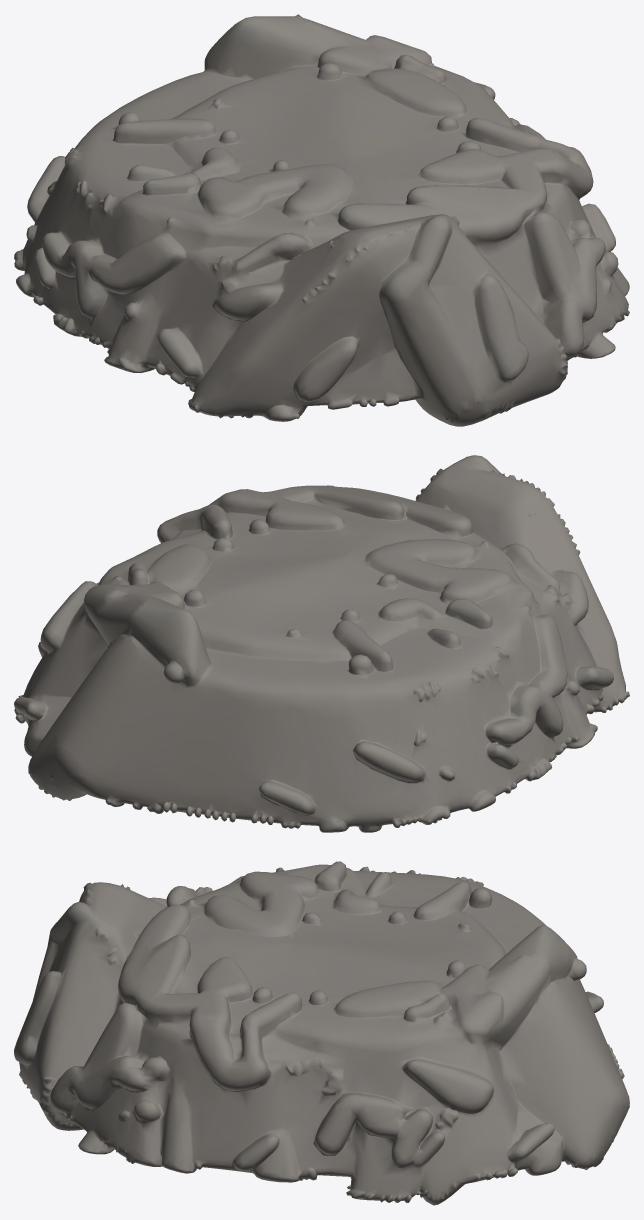
File: deco_baseRock.fbx
3 views of the same model, one above another, from view 1: azimuth 30°, elevation 25°; view 2: azimuth 150°, elevation 25°; view 3: azimuth 270°, elevation 25° (orthographic). The views are drawn at different scales.
Parts seen in each view (by area): view 1: tripo_node_9eee7820-8250-494e-ae52-7da29a69f6f7; view 2: tripo_node_9eee7820-8250-494e-ae52-7da29a69f6f7; view 3: tripo_node_9eee7820-8250-494e-ae52-7da29a69f6f7.
Part boxes in pixels (<box>): tripo_node_9eee7820-8250-494e-ae52-7da29a69f6f7: <box>14,14,629,426</box>; tripo_node_9eee7820-8250-494e-ae52-7da29a69f6f7: <box>14,455,629,832</box>; tripo_node_9eee7820-8250-494e-ae52-7da29a69f6f7: <box>14,861,629,1205</box>.
Bounding box in the file's own units: 87.82 × 33.17 × 97.95.
Materials: 1 (1 with a texture image).
